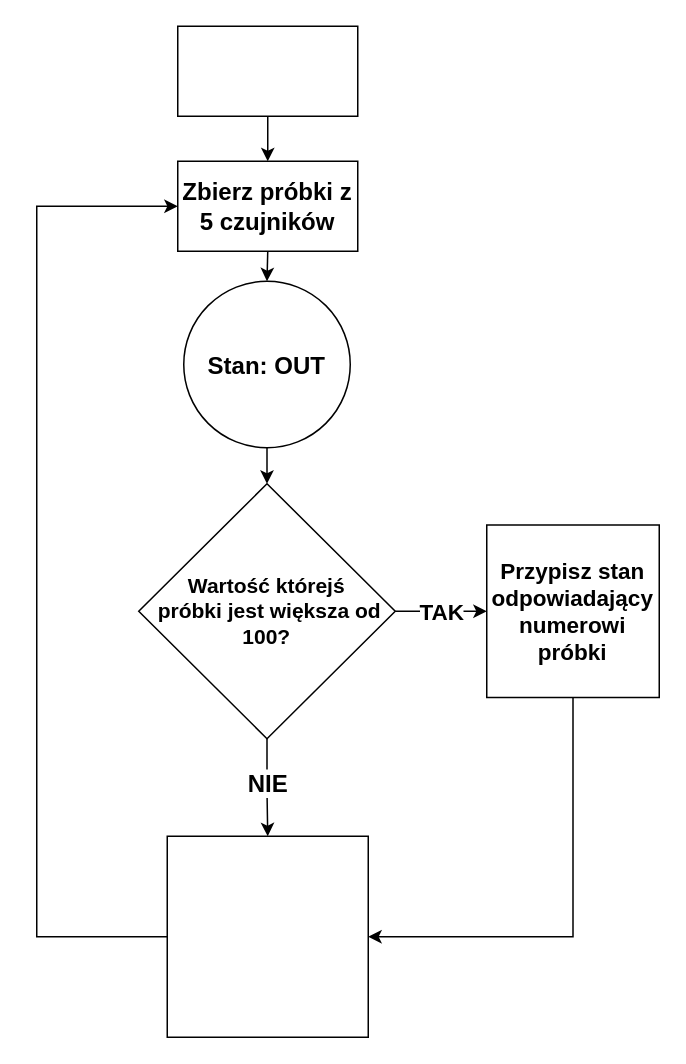
Image size: 686x1064. Some labels were removed from this diagram. The shapes that lost their labels are listed below. From the top down, each one's centre as x and y in pixels, then its label:
At (x=267, y=70): "Start".
At (x=267, y=936): "Przypisz obydwu silnikom prędkość odpowiadającą obecnemu stanowi".
